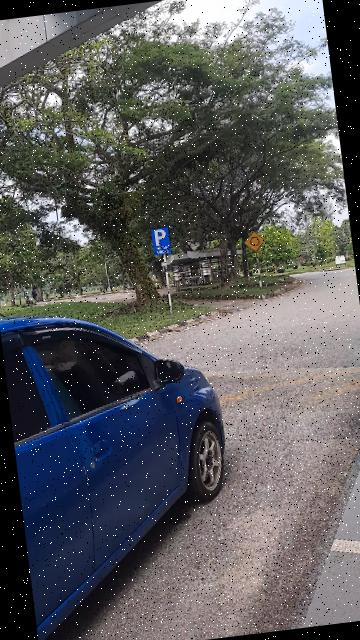car: (1, 285, 263, 640)
